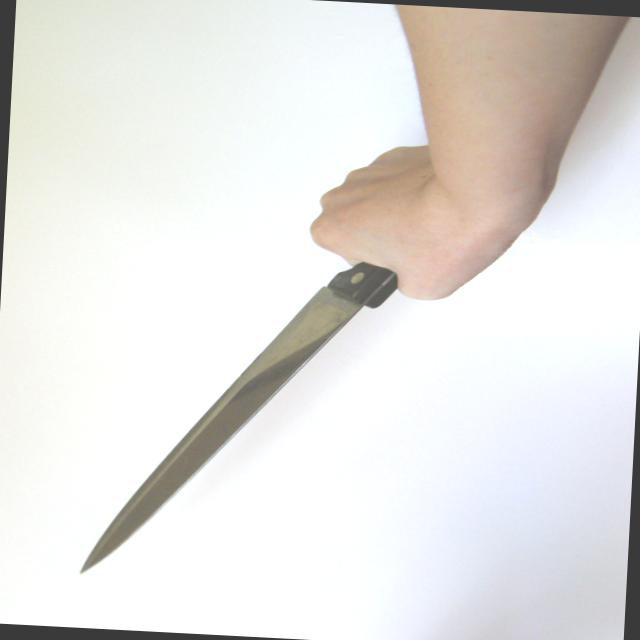knife: (65, 179, 469, 598)
